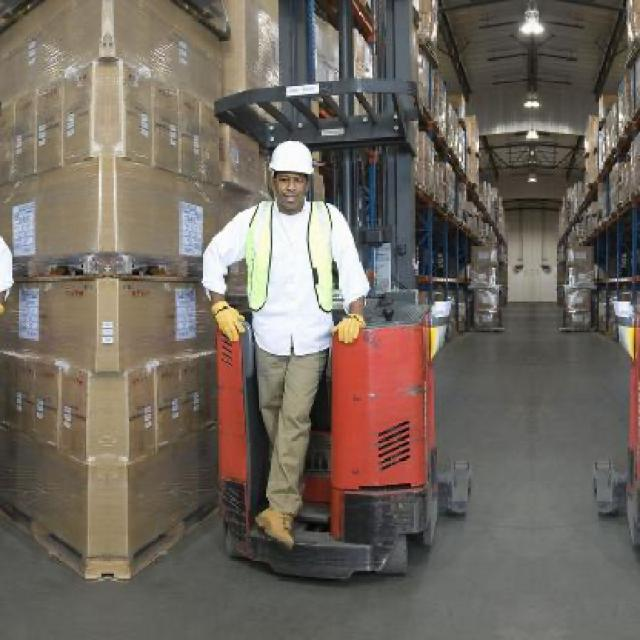helmet: (266, 136, 320, 210)
